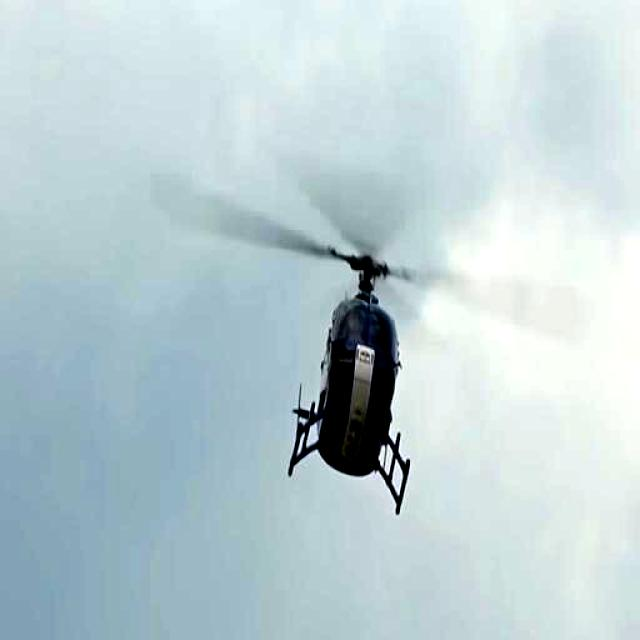drone: (200, 134, 466, 528)
